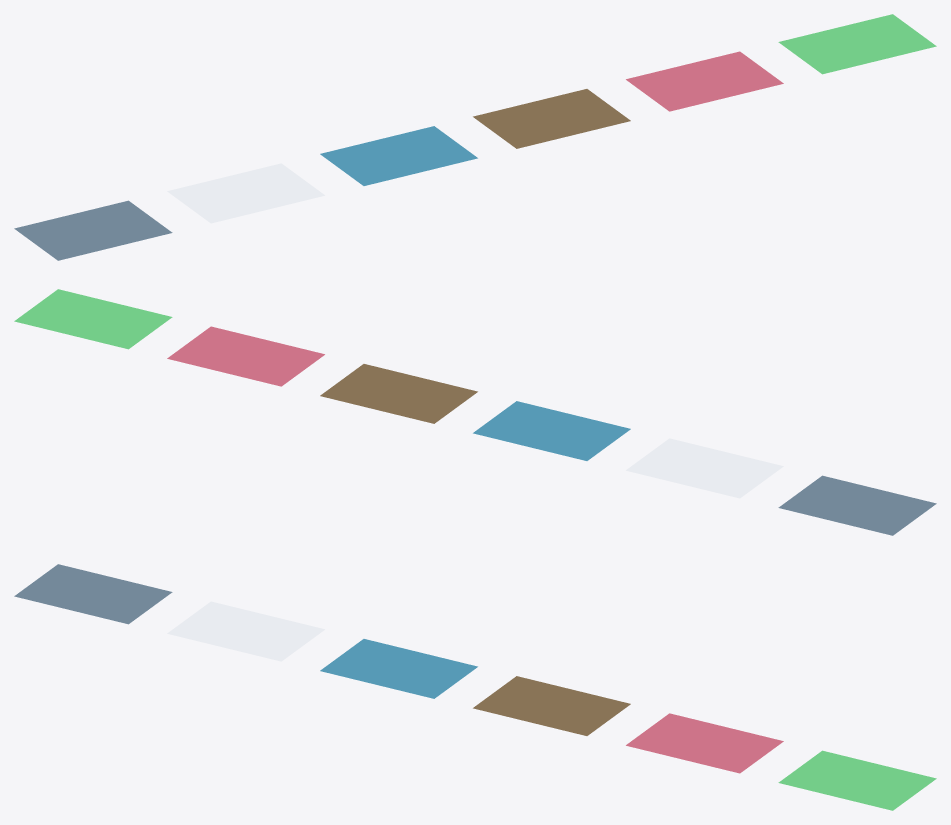
The model's file is pbr-colors.glb.
The picture shows the model from 3 angles, top to bottom: view 1: azimuth 30°, elevation 25°; view 2: azimuth 150°, elevation 25°; view 3: azimuth 330°, elevation 25°; orthographic projection.
Parts seen in each view (by area): view 1: IngeTrazo; view 2: IngeTrazo; view 3: IngeTrazo.
Part boxes in pixels (left/top/right/bottom): IngeTrazo: left=14, top=14, right=936, bottom=260; IngeTrazo: left=14, top=289, right=936, bottom=535; IngeTrazo: left=14, top=564, right=936, bottom=810.
Size of the model in its own units: 23 by 0 by 2.
